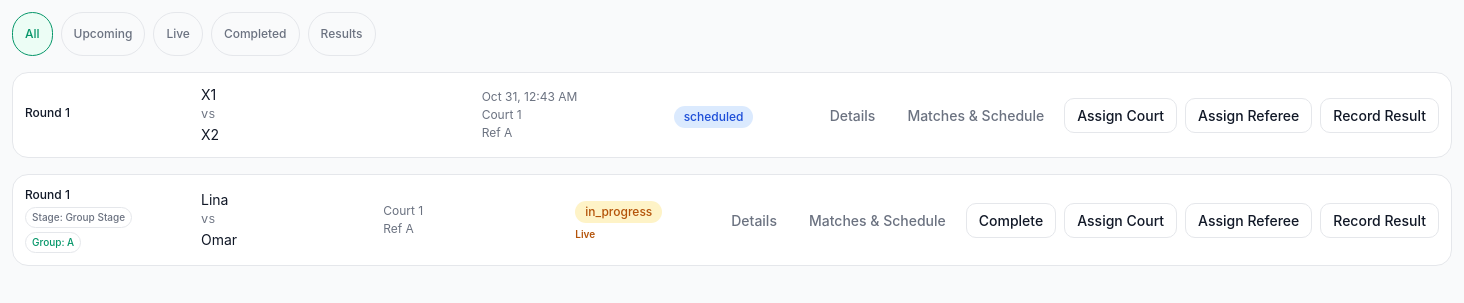
Test: Tournament Hub Matches � Live segment (Step 3G) › does not show scheduled matches with a past start_time (no fabrication)
This screenshot has width=1464, height=303.
What coordinates should you click on to do the following:
click the button "Live"
I would click on:
 (178, 34)
Its box is top-left (153, 12), bottom-right (203, 56).
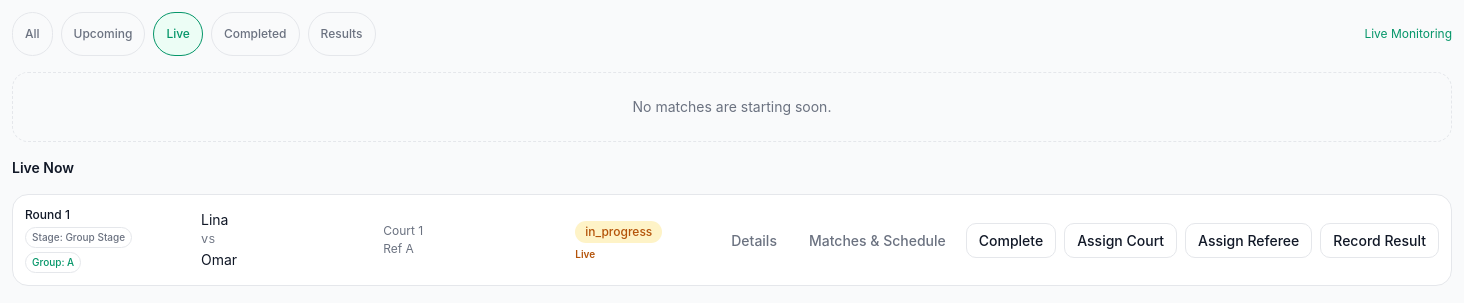
Check: the text "Lina" is shown, box top-left (201, 211), bottom-right (228, 228)
Check: the text "X1" is gone
